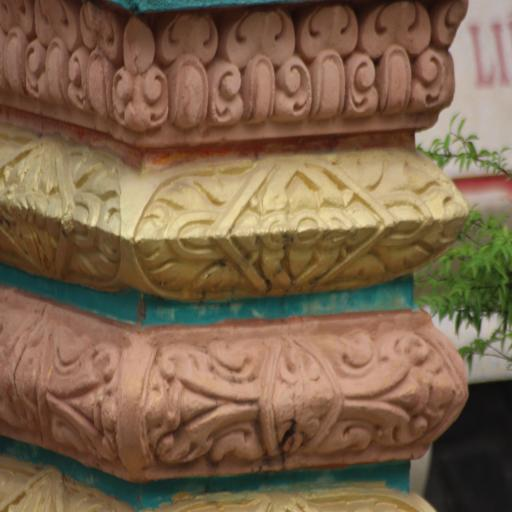la: (298, 326, 454, 460), (143, 169, 306, 296), (151, 328, 298, 468), (304, 164, 454, 295), (0, 159, 129, 283), (6, 340, 128, 462), (218, 1, 299, 127), (358, 2, 444, 120), (150, 0, 218, 131), (300, 0, 358, 122), (113, 7, 170, 131), (72, 2, 118, 120), (25, 0, 75, 101), (0, 0, 29, 105)
